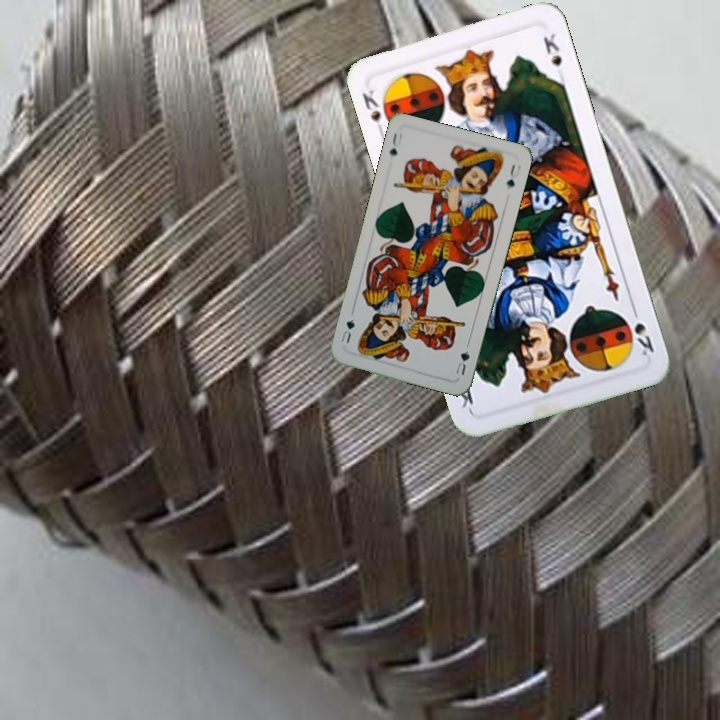GU: (452, 340, 472, 378), (385, 129, 405, 158)
SK: (628, 302, 657, 359), (358, 85, 388, 139)
